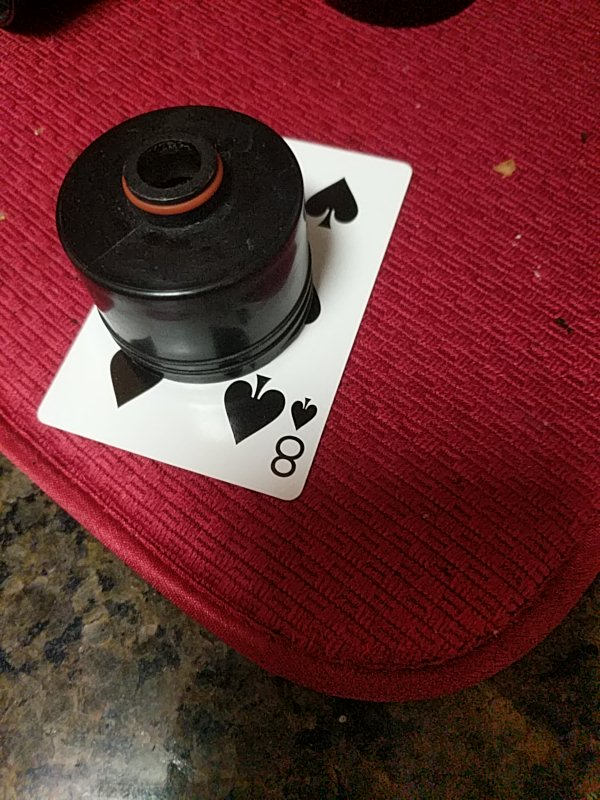Spades: (35, 136, 412, 501)
